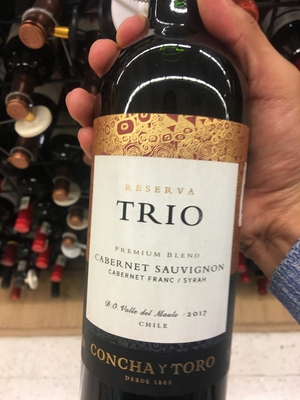trio cabernet sauvignon: (85, 22, 253, 400)
